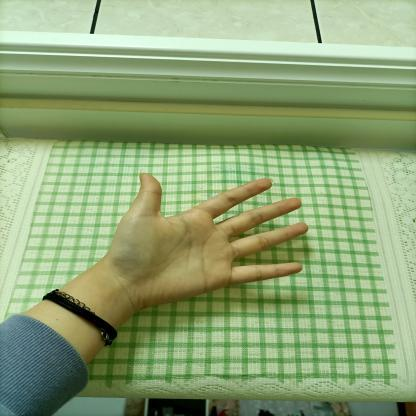bare_hand: (99, 160, 327, 314)
